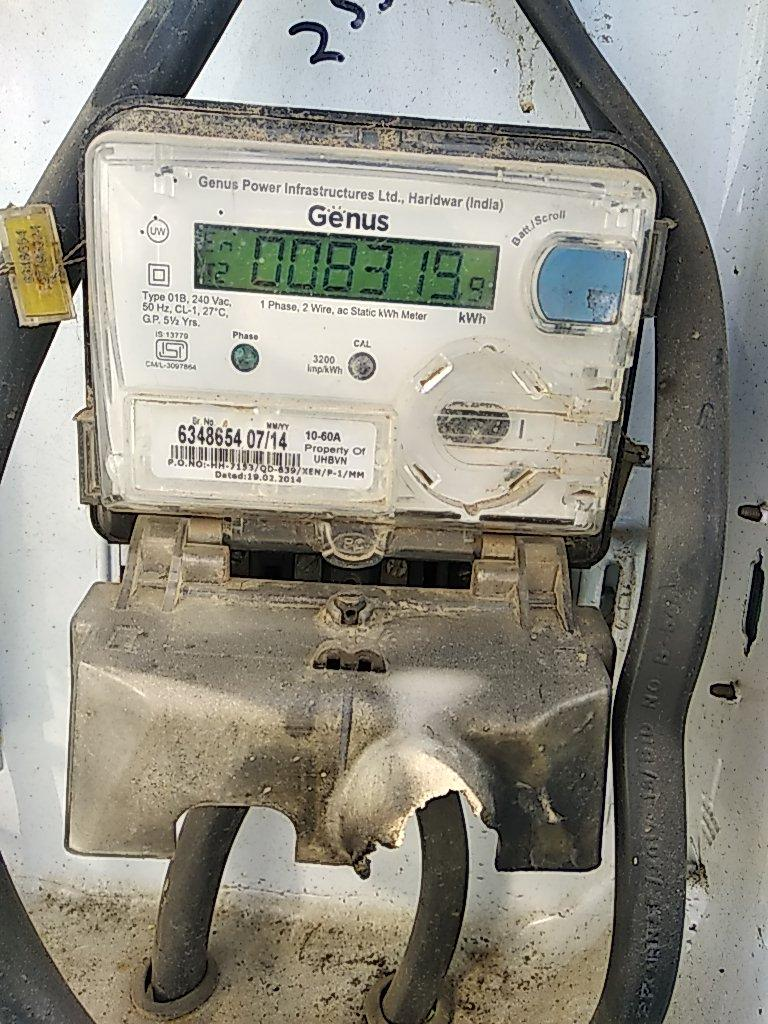.: (456, 307, 489, 328)
0: (455, 292, 466, 304)
1: (251, 235, 284, 288), (288, 237, 319, 291)
2: (414, 251, 432, 298)
4: (358, 242, 393, 297)
9: (324, 240, 356, 293)
:: (432, 248, 462, 302), (468, 275, 486, 304)
